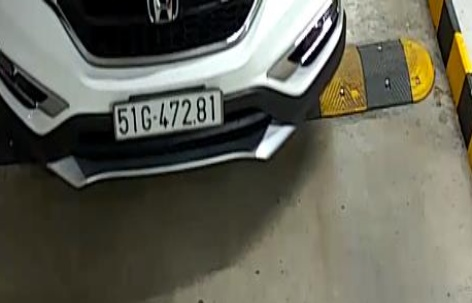plate: (108, 90, 223, 139)
